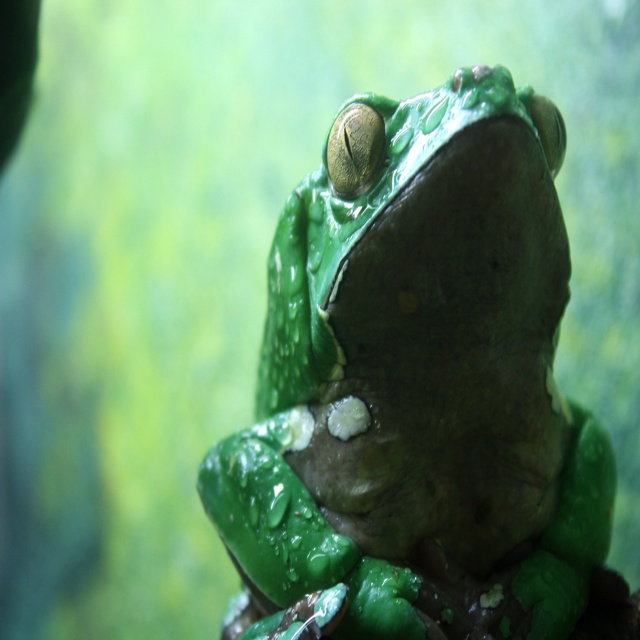Frog: (196, 62, 621, 639)
